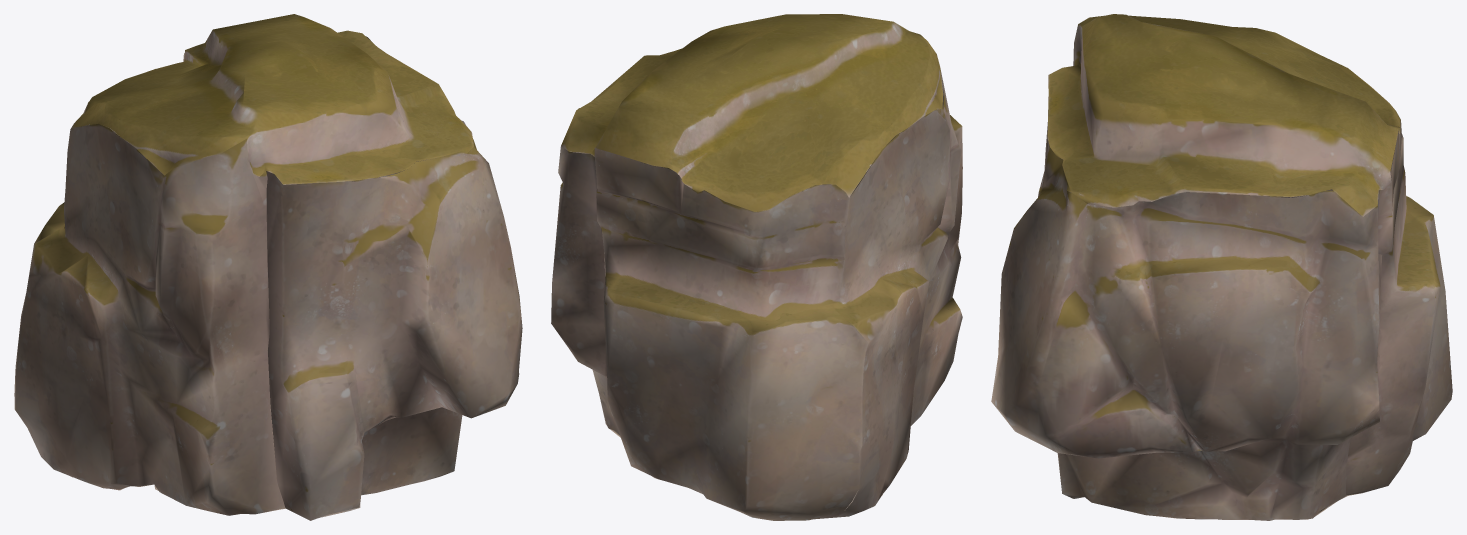
The model's file is Rock1.fbx.
3 views of the same model, side by side, from view 1: azimuth 30°, elevation 25°; view 2: azimuth 150°, elevation 25°; view 3: azimuth 270°, elevation 25° (orthographic). The views are drawn at different scales.
Parts seen in each view (by area): view 1: defaultMaterial; view 2: defaultMaterial; view 3: defaultMaterial.
Boxes of the visible parts, x1,y1,x2,y2 form: defaultMaterial: [14, 14, 522, 520]; defaultMaterial: [551, 14, 962, 520]; defaultMaterial: [991, 14, 1452, 520].
Size of the model in its own units: 21082 by 23963 by 23999.
Materials: 1 (1 with a texture image).
